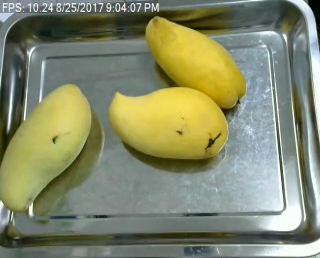Mango: (0, 79, 91, 214), (142, 14, 247, 107), (105, 84, 231, 160)
